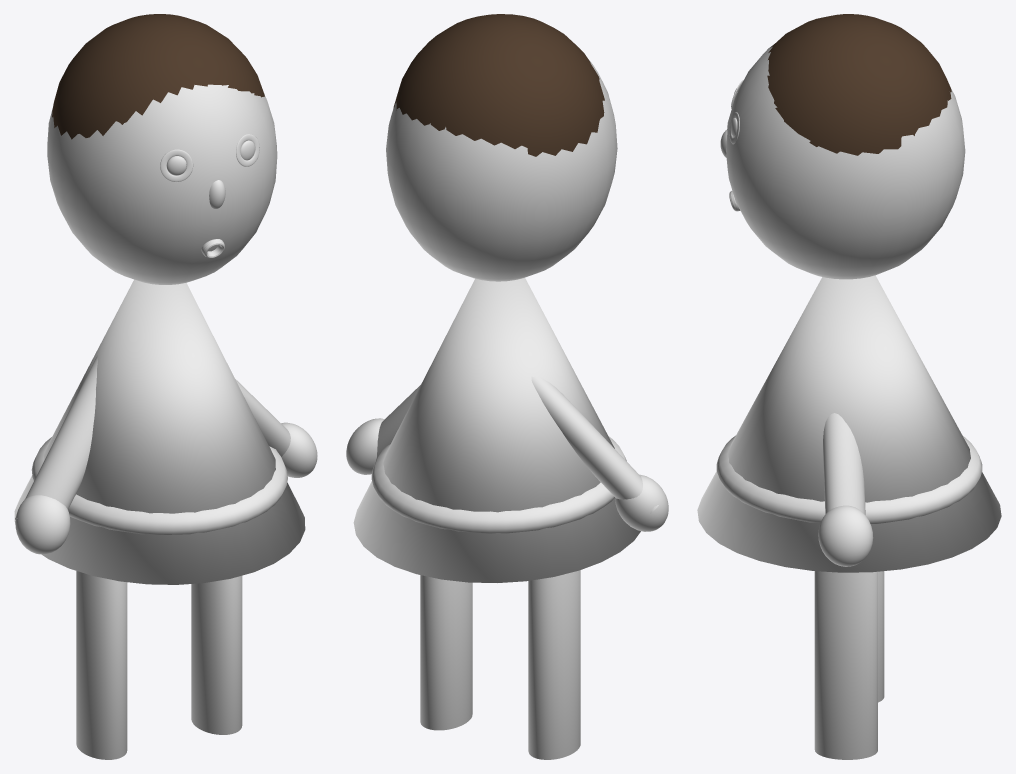
File: Mutter.fbx
3 renders of one model, left to right at view 1: azimuth 30°, elevation 25°; view 2: azimuth 150°, elevation 25°; view 3: azimuth 270°, elevation 25°, orthographic.
Visible parts, largest first — view 1: Cone, Sphere, Sphere.001, Cylinder.001, Cylinder, Torus.003, Cylinder.003, Sphere.008, Sphere.007, Cylinder.002, Torus; view 2: Cone, Sphere, Sphere.001, Cylinder.001, Cylinder, Torus.003, Cylinder.003, Sphere.008, Sphere.007, Cylinder.002; view 3: Cone, Sphere, Sphere.001, Cylinder, Torus.003, Cylinder.002, Sphere.007, Cylinder.001.
Boxes of the visible parts, left/top/right/bottom form: Cone: left=14, top=279, right=305, bottom=584; Sphere: left=47, top=84, right=277, bottom=284; Sphere.001: left=52, top=14, right=264, bottom=139; Cylinder.001: left=76, top=571, right=127, bottom=759; Cylinder: left=191, top=575, right=242, bottom=734; Torus.003: left=31, top=437, right=287, bottom=535; Cylinder.003: left=15, top=355, right=97, bottom=519; Sphere.008: left=15, top=495, right=70, bottom=554; Sphere.007: left=281, top=422, right=317, bottom=477; Cylinder.002: left=235, top=379, right=290, bottom=456; Torus: left=160, top=149, right=193, bottom=182; Cone: left=353, top=277, right=640, bottom=582; Sphere: left=386, top=48, right=617, bottom=281; Sphere.001: left=393, top=14, right=604, bottom=156; Cylinder.001: left=528, top=570, right=580, bottom=759; Cylinder: left=420, top=575, right=472, bottom=730; Torus.003: left=371, top=436, right=626, bottom=533; Cylinder.003: left=531, top=376, right=658, bottom=513; Sphere.008: left=615, top=474, right=668, bottom=531; Sphere.007: left=346, top=418, right=384, bottom=474; Cylinder.002: left=376, top=385, right=420, bottom=460; Cone: left=697, top=275, right=1001, bottom=572; Sphere: left=726, top=44, right=965, bottom=279; Sphere.001: left=767, top=14, right=951, bottom=155; Cylinder: left=814, top=571, right=877, bottom=759; Torus.003: left=716, top=435, right=982, bottom=523; Cylinder.002: left=823, top=413, right=865, bottom=514; Sphere.007: left=818, top=505, right=873, bottom=566; Cylinder.001: left=878, top=571, right=884, bottom=702.
Size of the model in its own units: 298 by 662 by 261.
